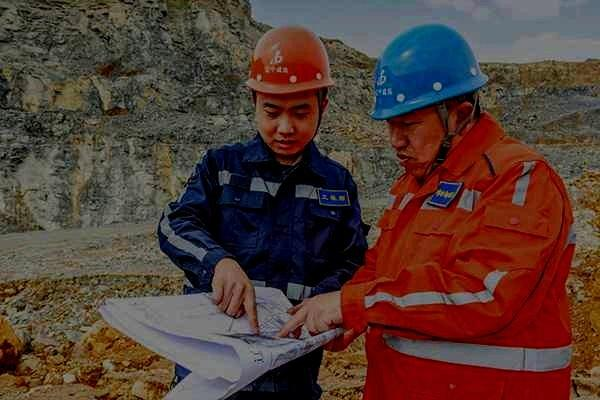helmet: (369, 22, 489, 178), (246, 23, 336, 155)
